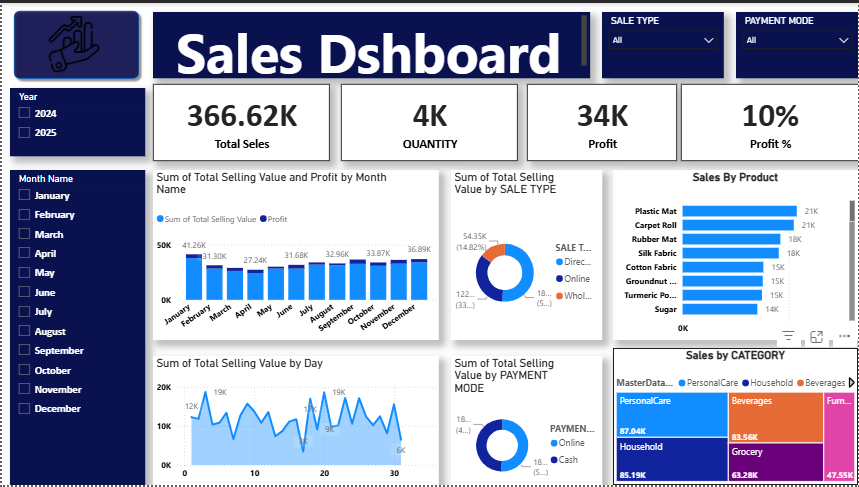

Layout of this report page (visuals, bound fields, positions):
{"tool":"powerbi","page":{"name":"Page 1","canvas":[1280,720],"ordinal":0},"visuals":[{"type":"shape","box":[10.5,4.5,201.6,115.9],"z":0},{"type":"slicer","fields":{"Values":["InputData.Year"]},"box":[12,127,201.6,102.5],"z":1000},{"type":"slicer","fields":{"Values":["InputData.Month Name"]},"box":[12,249.5,201.7,470.5],"z":2000},{"type":"textbox","box":[225.6,13.4,652.8,98.6],"z":3000},{"type":"slicer","fields":{"Values":["InputData.SALE TYPE"]},"box":[896.3,13.4,182.2,98.6],"z":4000},{"type":"slicer","fields":{"Values":["InputData.PAYMENT MODE"]},"box":[1096.4,13.4,183.7,98.6],"z":5000},{"type":"cardVisual","fields":{"Data":["Sum(InputData.Total Selling Value)"]},"box":[225.6,121,264.4,115],"z":6000},{"type":"cardVisual","fields":{"Data":["Sum(InputData.QUANTITY)"]},"box":[506.4,121,264.4,115],"z":7000},{"type":"cardVisual","fields":{"Data":["InputData.Profit"]},"box":[784.2,121,224.1,115],"z":8000},{"type":"cardVisual","fields":{"Data":["InputData.Profit %"]},"box":[1014.3,121,265.9,115],"z":9000},{"type":"columnChart","fields":{"Y":["Sum(InputData.Total Selling Value)","InputData.Profit"],"Category":["InputData.Month Name"]},"box":[225.6,249.5,427.2,253.9],"z":10000},{"type":"areaChart","fields":{"Category":["InputData.Day"],"Y":["Sum(InputData.Total Selling Value)"]},"box":[225.6,527.3,427.2,192.7],"z":11000},{"type":"clusteredBarChart","title":"Sales By Product","fields":{"Y":["Sum(InputData.Total Selling Value)"],"Category":["InputData.MasterData.PRODUCT"]},"box":[912.7,249.5,366,253.9],"z":12000},{"type":"treemap","title":"Sales by CATEGORY","fields":{"Values":["Sum(InputData.Total Selling Value)"],"Group":["InputData.MasterData.CATEGORY"]},"box":[912.7,515.4,366,204.6],"z":13000},{"type":"donutChart","fields":{"Y":["Sum(InputData.Total Selling Value)"],"Category":["InputData.SALE TYPE"]},"box":[670.7,249.5,226,254],"z":14000},{"type":"donutChart","fields":{"Y":["Sum(InputData.Total Selling Value)"],"Category":["InputData.PAYMENT MODE"]},"box":[671,527,226,193],"z":15000},{"type":"image","box":[10.1,20.2,194.9,84],"z":16000}]}

Visuals, with their boxes in screenshot pixels (x1, y1, x2, y2), scaled from the page's 1280x720 canvas onto the 859x487 screenshot:
shape: bbox=[7, 3, 142, 81]
slicer - InputData.Year: bbox=[8, 86, 143, 155]
slicer - InputData.Month Name: bbox=[8, 169, 143, 486]
textbox: bbox=[151, 9, 589, 76]
slicer - InputData.SALE TYPE: bbox=[602, 9, 724, 76]
slicer - InputData.PAYMENT MODE: bbox=[736, 9, 858, 76]
cardVisual - Sum(InputData.Total Selling Value): bbox=[151, 82, 329, 160]
cardVisual - Sum(InputData.QUANTITY): bbox=[340, 82, 517, 160]
cardVisual - InputData.Profit: bbox=[526, 82, 677, 160]
cardVisual - InputData.Profit %: bbox=[681, 82, 858, 160]
columnChart - Sum(InputData.Total Selling Value) x InputData.Profit: bbox=[151, 169, 438, 340]
areaChart - InputData.Day x Sum(InputData.Total Selling Value): bbox=[151, 357, 438, 486]
"Sales By Product" clusteredBarChart: bbox=[613, 169, 858, 340]
"Sales by CATEGORY" treemap: bbox=[613, 349, 858, 486]
donutChart - Sum(InputData.Total Selling Value) x InputData.SALE TYPE: bbox=[450, 169, 602, 341]
donutChart - Sum(InputData.Total Selling Value) x InputData.PAYMENT MODE: bbox=[450, 356, 602, 486]
image: bbox=[7, 14, 138, 70]
